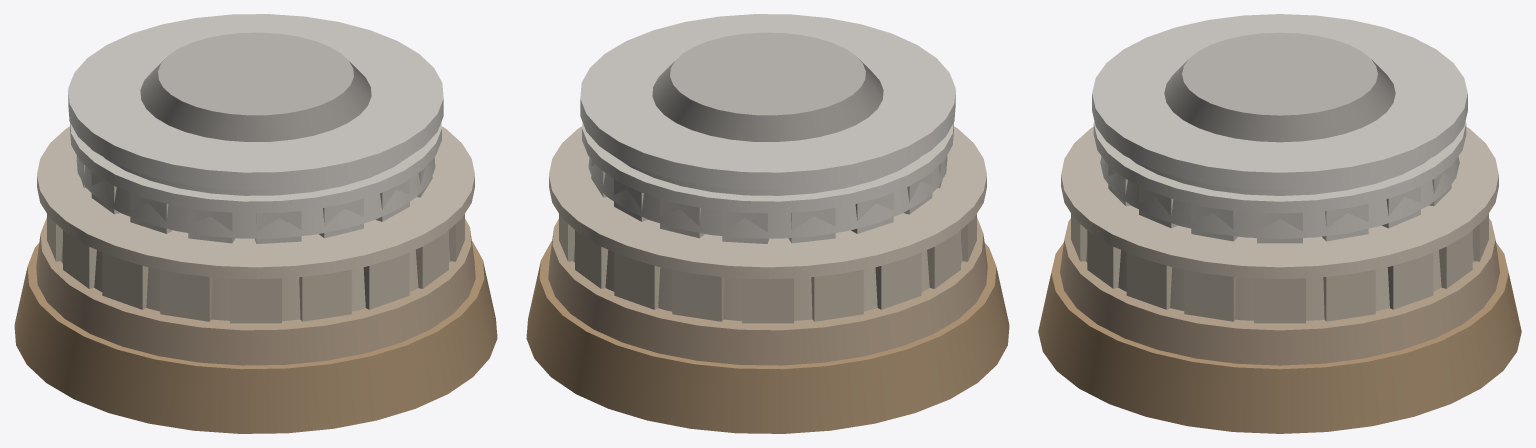
The model's file is colosseum.glb.
3 views of the same model, side by side, from view 1: azimuth 30°, elevation 25°; view 2: azimuth 150°, elevation 25°; view 3: azimuth 270°, elevation 25° (orthographic).
Size of the model in its own units: 2.96 by 1.74 by 2.96.
